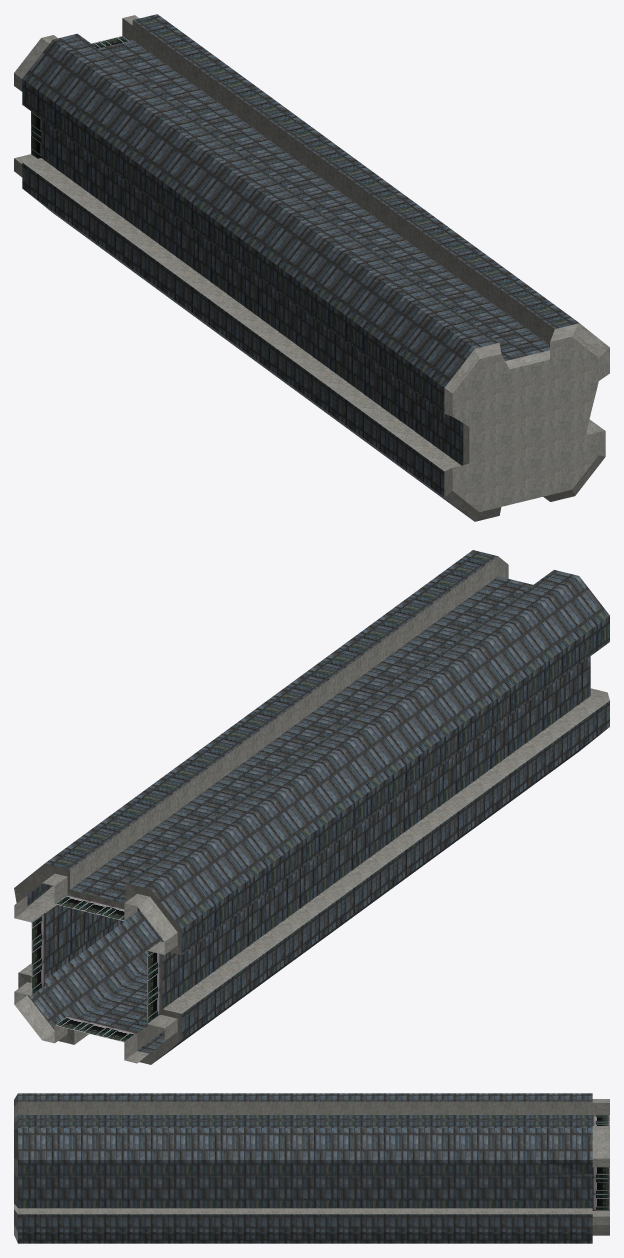
Rendered from skyscraper_windowB_04.obj.
The picture shows the model from 3 angles, top to bottom: view 1: azimuth 30°, elevation 25°; view 2: azimuth 150°, elevation 25°; view 3: azimuth 270°, elevation 25°; orthographic projection. The views are drawn at different scales.
Parts seen in each view (by area): view 1: Object48; view 2: Object48; view 3: Object48.
Boxes of the visible parts, x1=… form: Object48: x1=14, y1=14, x2=609, y2=521; Object48: x1=14, y1=550, x2=609, y2=1064; Object48: x1=14, y1=1093, x2=609, y2=1243.
Size of the model in its own units: 44.68 by 44.68 by 205.
Materials: 3 (3 with a texture image).
